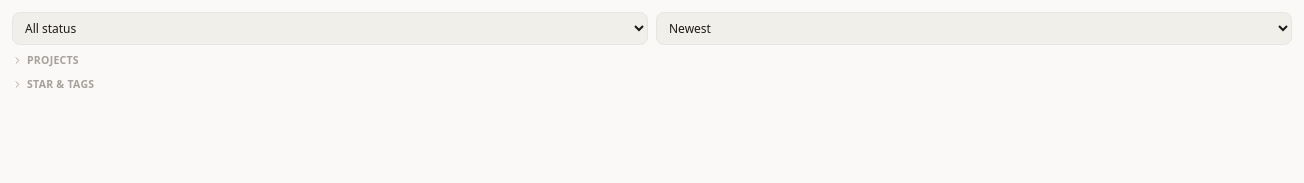
FilterRow pill context menu › Escape steps back from the delete confirm, then closes the menu
The width and height of the screenshot is (1304, 183).
Click the button "Projects". click: (53, 60)
box: [12, 53, 1292, 69]
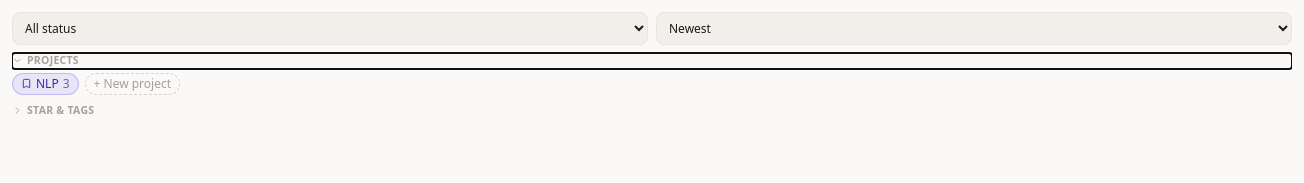
Right-click the button "NLP 3" at (45, 84), box [12, 73, 78, 95]
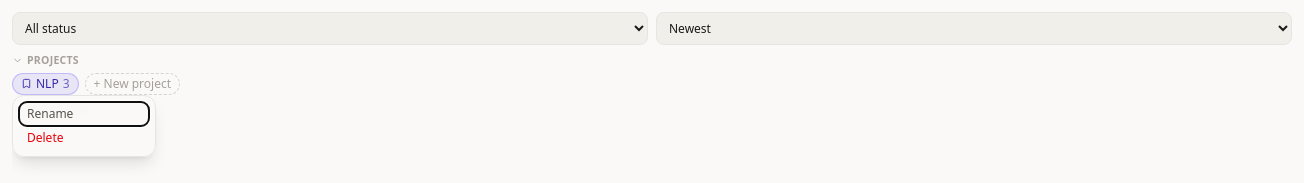
Click the menu item "Delete". click: (84, 138)
box: [19, 126, 149, 150]
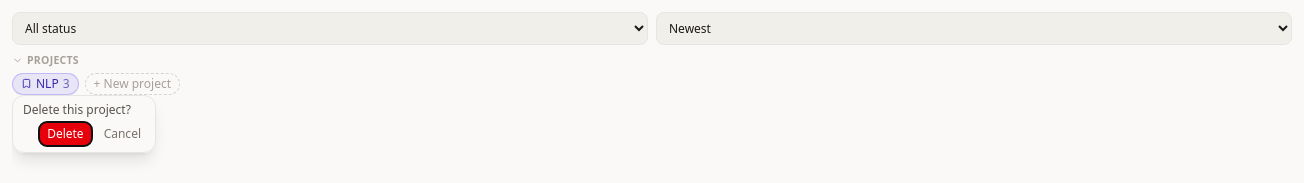
Press Escape
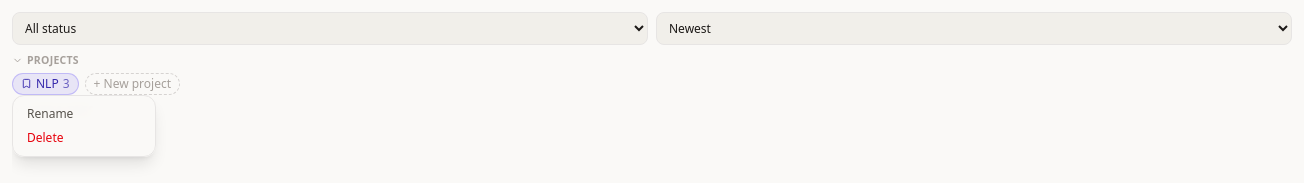
expect the menu item "Rename" is shown: met, box [19, 102, 149, 126]
Press Escape
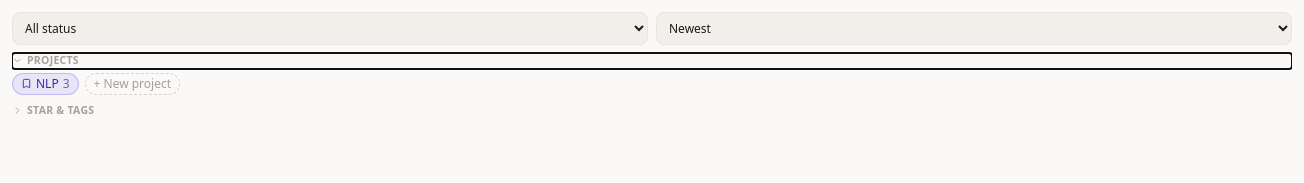
expect the menu is gone: met
